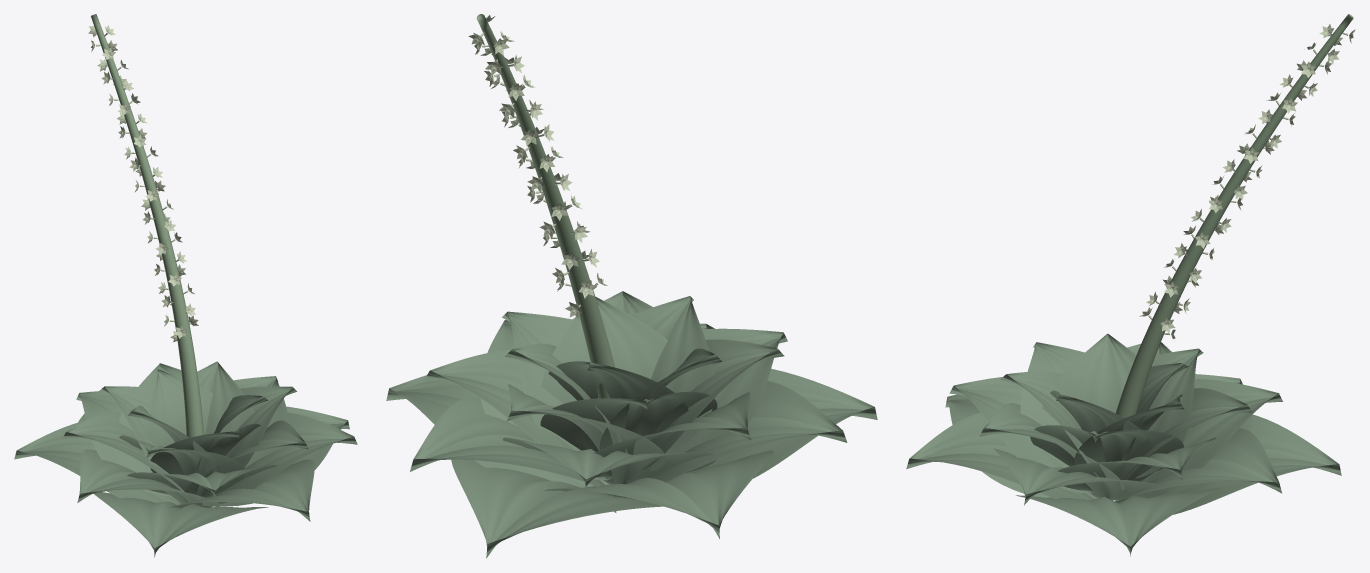
3 views of the same model, side by side, from view 1: azimuth 30°, elevation 25°; view 2: azimuth 150°, elevation 25°; view 3: azimuth 270°, elevation 25° (orthographic). The views are drawn at different scales.
Parts seen in each view (by area): view 1: leafy_base, flower_stalk; view 2: leafy_base, flower_stalk; view 3: leafy_base, flower_stalk.
Part boxes in pixels (x1=…): leafy_base: x1=14, y1=361, x2=357, y2=557; flower_stalk: x1=90, y1=14, x2=203, y2=437; leafy_base: x1=386, y1=291, x2=877, y2=558; flower_stalk: x1=476, y1=14, x2=615, y2=398; leafy_base: x1=906, y1=333, x2=1341, y2=556; flower_stalk: x1=1115, y1=14, x2=1353, y2=417.
Bounding box in the file's own units: 3.41 × 4.64 × 3.76.
